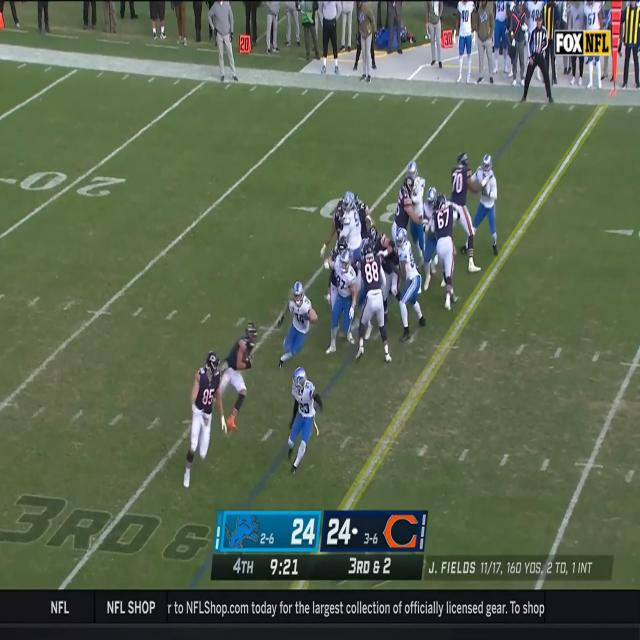football: (241, 354, 253, 372)
players: (180, 352, 228, 490), (216, 322, 260, 432), (355, 243, 392, 366), (288, 366, 323, 476), (394, 227, 426, 339), (452, 154, 482, 272), (428, 196, 459, 310), (469, 158, 501, 264), (368, 230, 405, 320), (278, 283, 316, 368), (326, 249, 355, 356), (406, 160, 426, 273), (338, 191, 364, 264), (391, 178, 415, 250)
